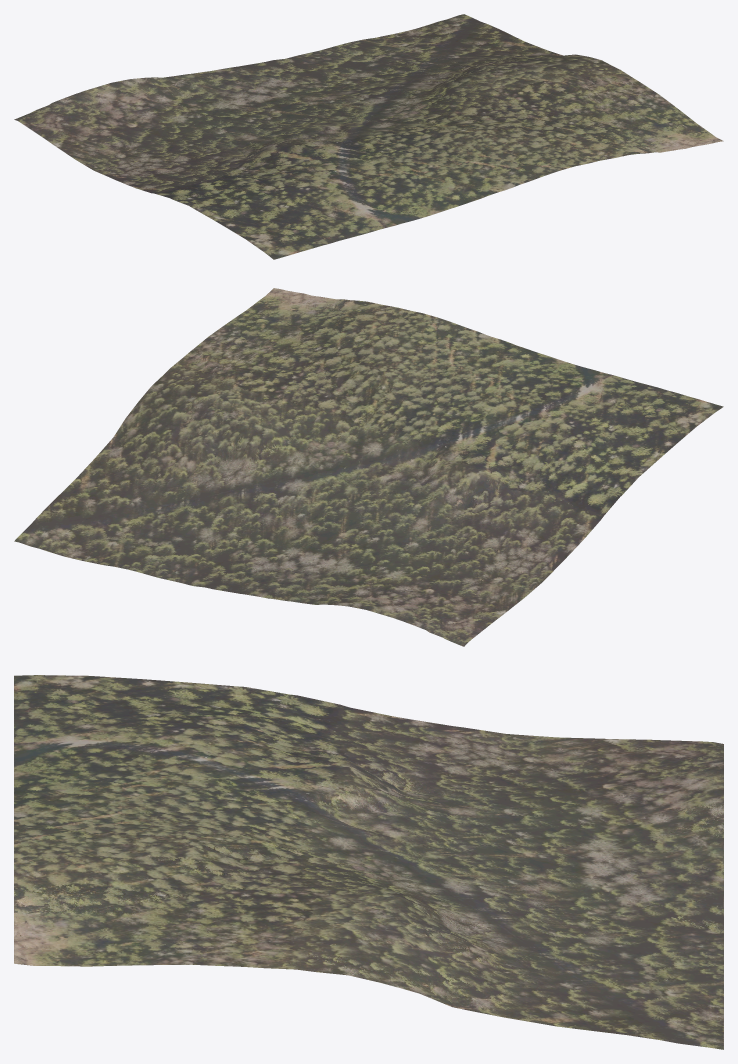
The model's file is CM_Terrain_24492916_6816927.fbx.
3 views of the same model, one above another, from view 1: azimuth 30°, elevation 25°; view 2: azimuth 150°, elevation 25°; view 3: azimuth 270°, elevation 25° (orthographic). The views are drawn at different scales.
Visible parts, largest first — view 1: CM_Terrain_24492916_6816927_LOD0; view 2: CM_Terrain_24492916_6816927_LOD0; view 3: CM_Terrain_24492916_6816927_LOD0.
Part boxes in pixels (left/top/right/bottom): CM_Terrain_24492916_6816927_LOD0: left=14, top=14, right=723, bottom=259; CM_Terrain_24492916_6816927_LOD0: left=14, top=288, right=723, bottom=646; CM_Terrain_24492916_6816927_LOD0: left=14, top=675, right=723, bottom=1049.
Size of what is drawn, in the model's own units: 205 by 33.59 by 205.
